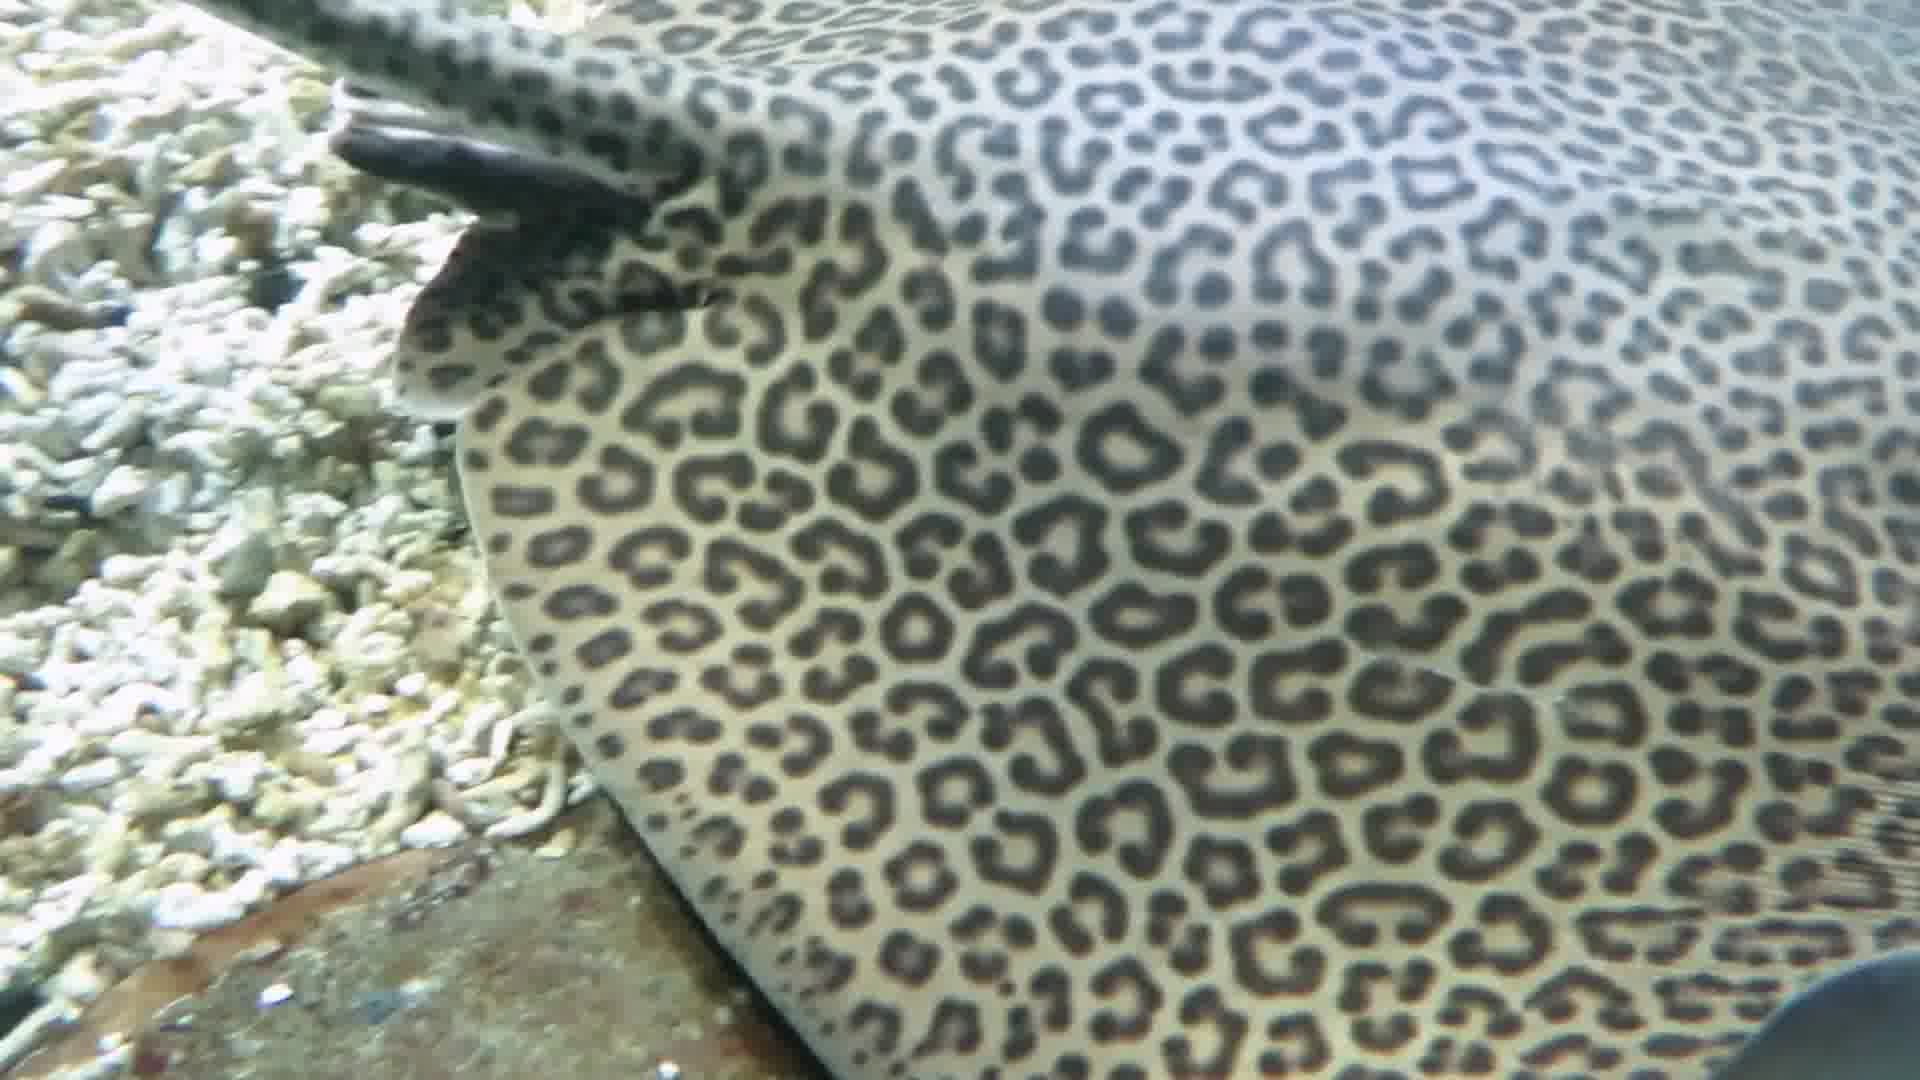Himantura uarnak: (410, 1, 1920, 1080)
